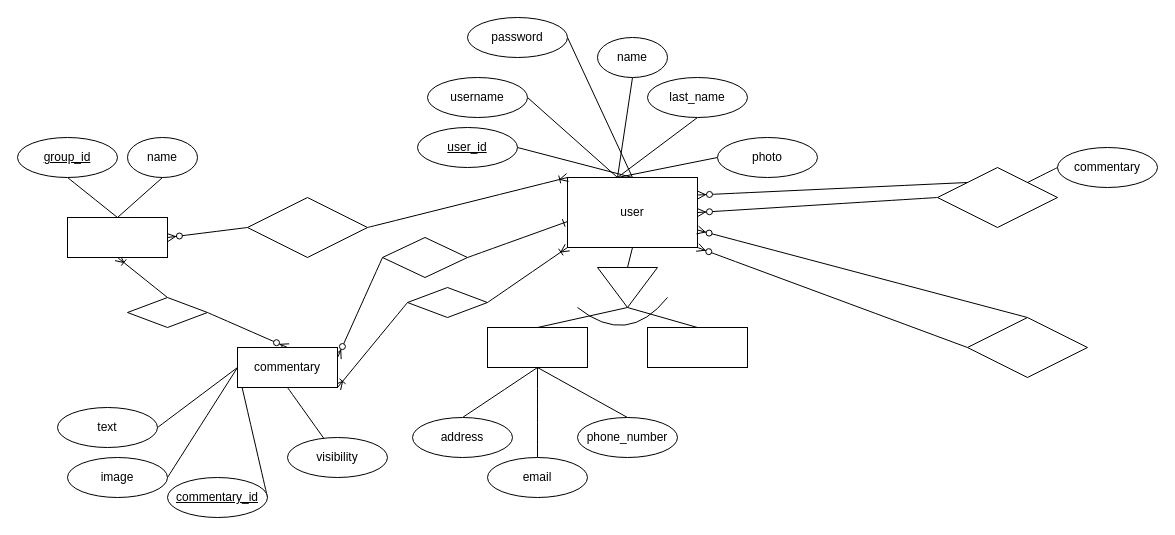
Image size: 1175x535. Some labels were removed from this diagram. Each missing label, with the centre of its shape:
"belongs" goes at [307,227].
"blocks" goes at [1027,347].
"contacts with" goes at [997,197].
"group" goes at [117,237].
"normal" goes at [537,347].
"posts" goes at [425,257].
"see" goes at [167,312].
"sees" goes at [447,302].
"vip" goes at [697,347].
